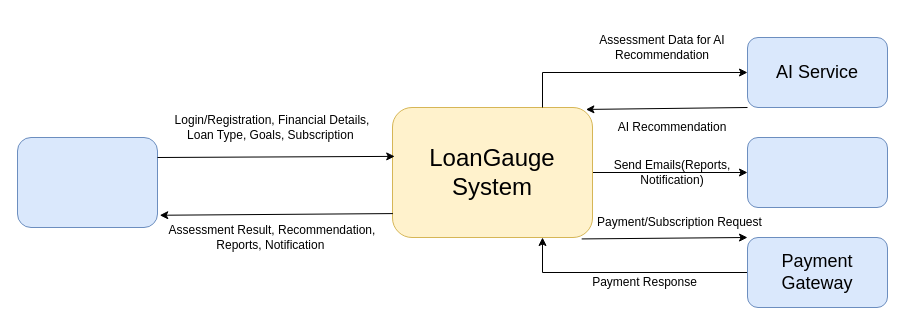
Some shapes in this 905 by 325 pixel diagram are drawn without their labels. Here are the shapes that lost their labels. From the top down, the centre of each, then its label:
At point 87,182: "User".
At point 817,172: "Email Service".
